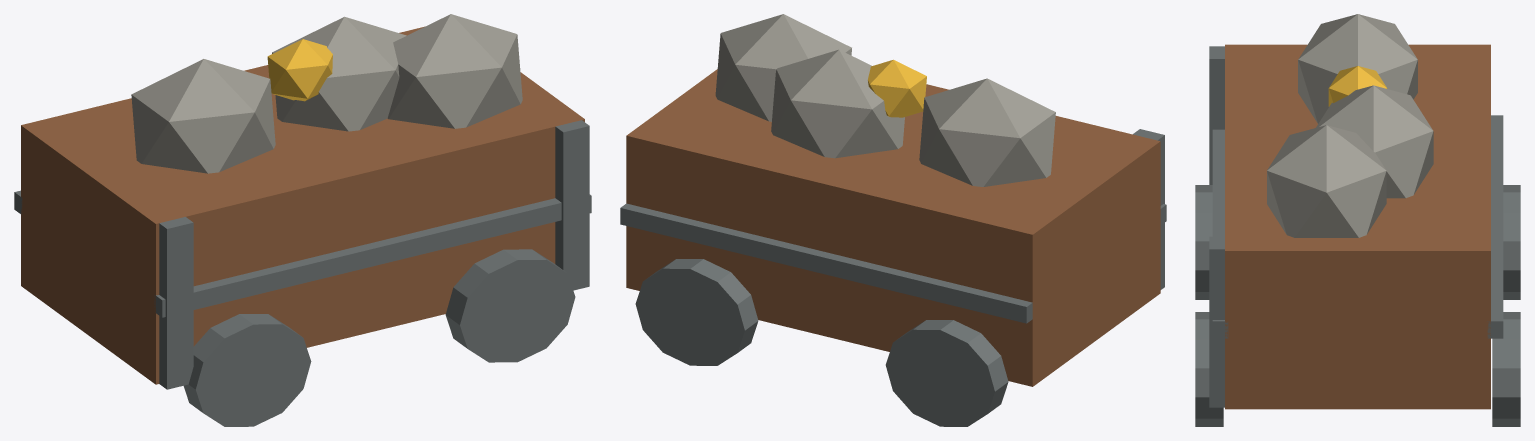
File: board_carrinho.glb
3 views of the same model, side by side, from view 1: azimuth 30°, elevation 25°; view 2: azimuth 150°, elevation 25°; view 3: azimuth 270°, elevation 25° (orthographic). The views are drawn at different scales.
Parts seen in each view (by area): view 1: board_carrinho; view 2: board_carrinho; view 3: board_carrinho.
Part boxes in pixels (<box>): board_carrinho: <box>14,14,591,426</box>; board_carrinho: <box>620,14,1166,426</box>; board_carrinho: <box>1195,14,1520,426</box>.
Bounding box in the file's own units: 3 × 2 × 2.
